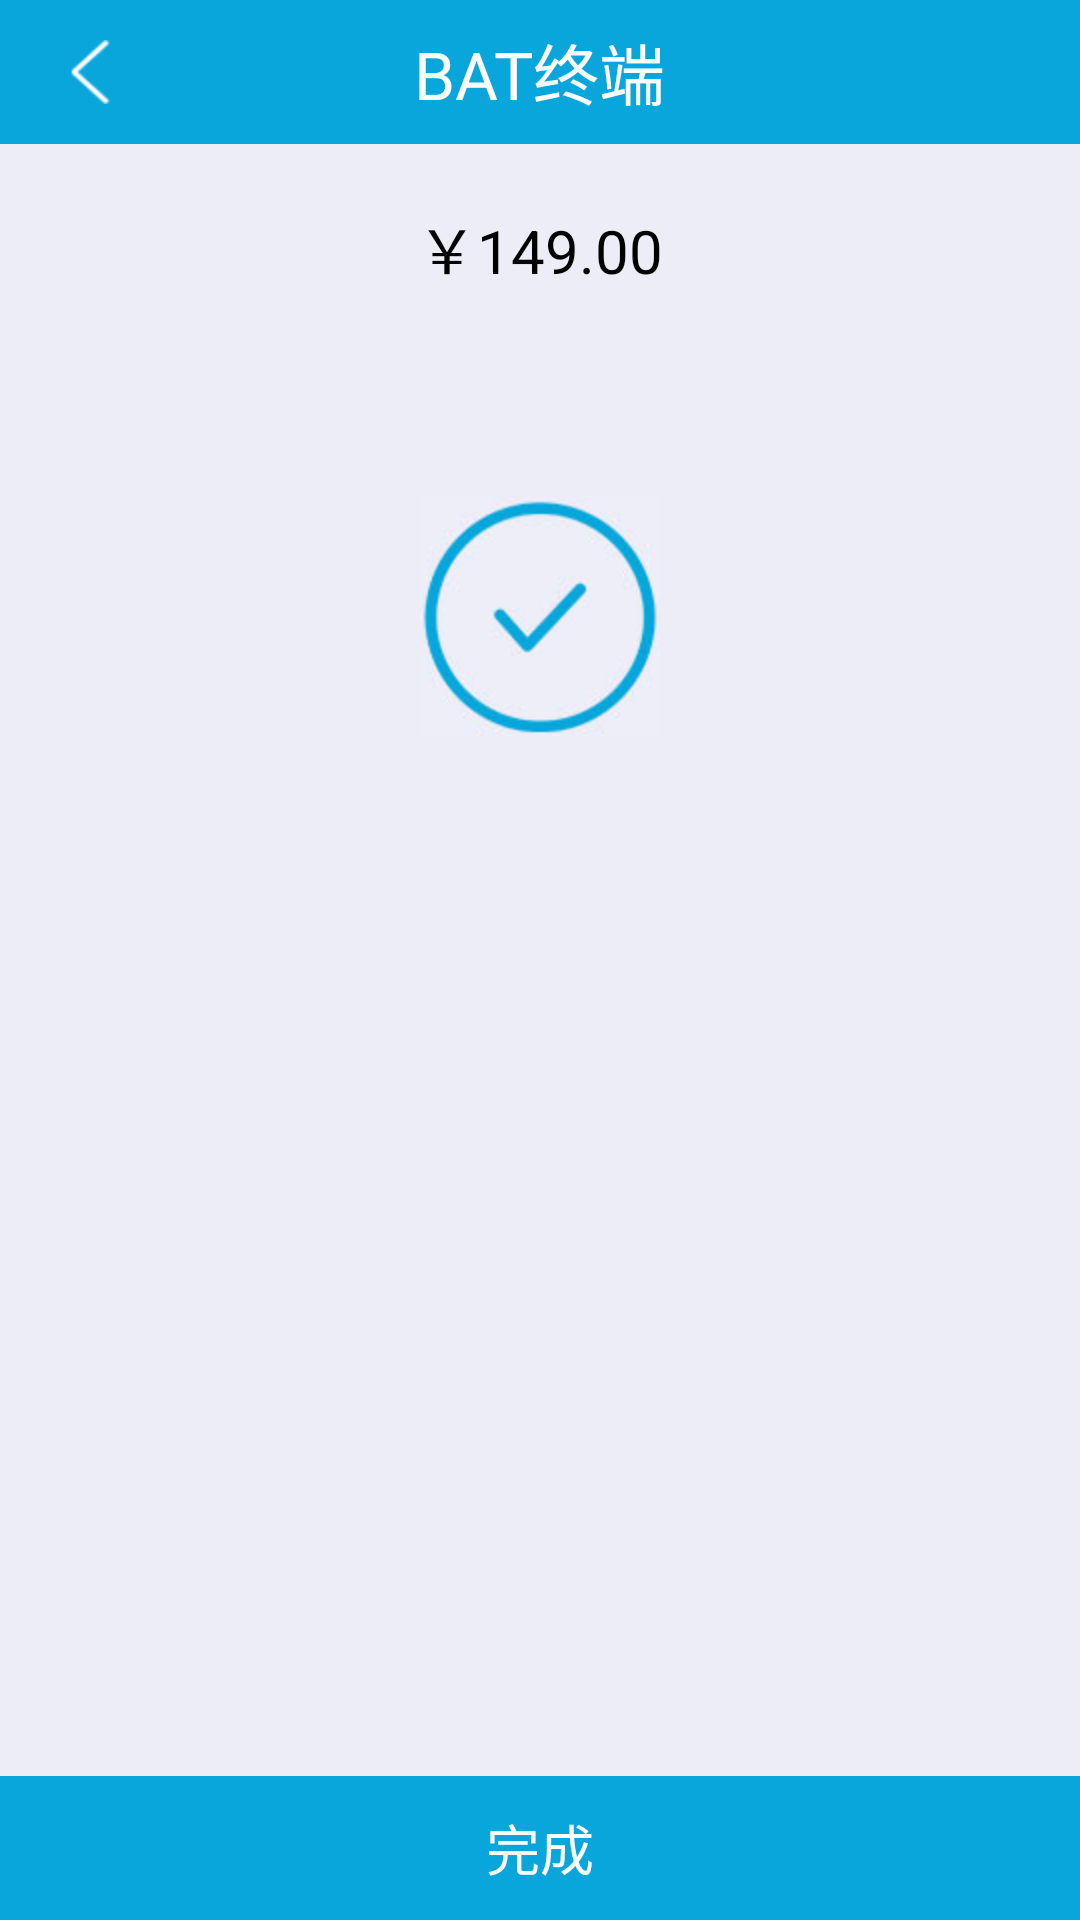

Where to tap for icons on this 1080x1920 app screen, as [x,y]:
fanhui: [90,72]
pay success: [540,617]
